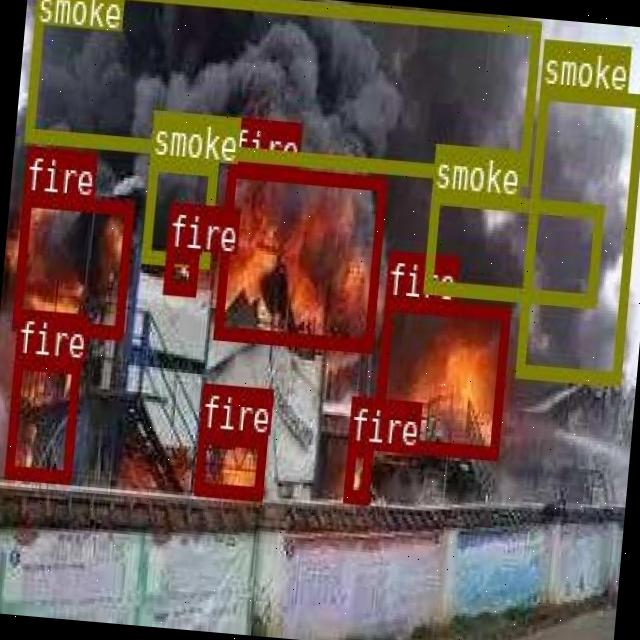fire: (211, 162, 384, 350), (371, 296, 509, 458), (9, 190, 132, 338), (2, 354, 78, 481), (193, 428, 264, 498), (342, 439, 371, 502), (161, 247, 197, 293)
smoke: (24, 0, 540, 181), (514, 84, 640, 381), (421, 188, 601, 304), (140, 154, 216, 266)
